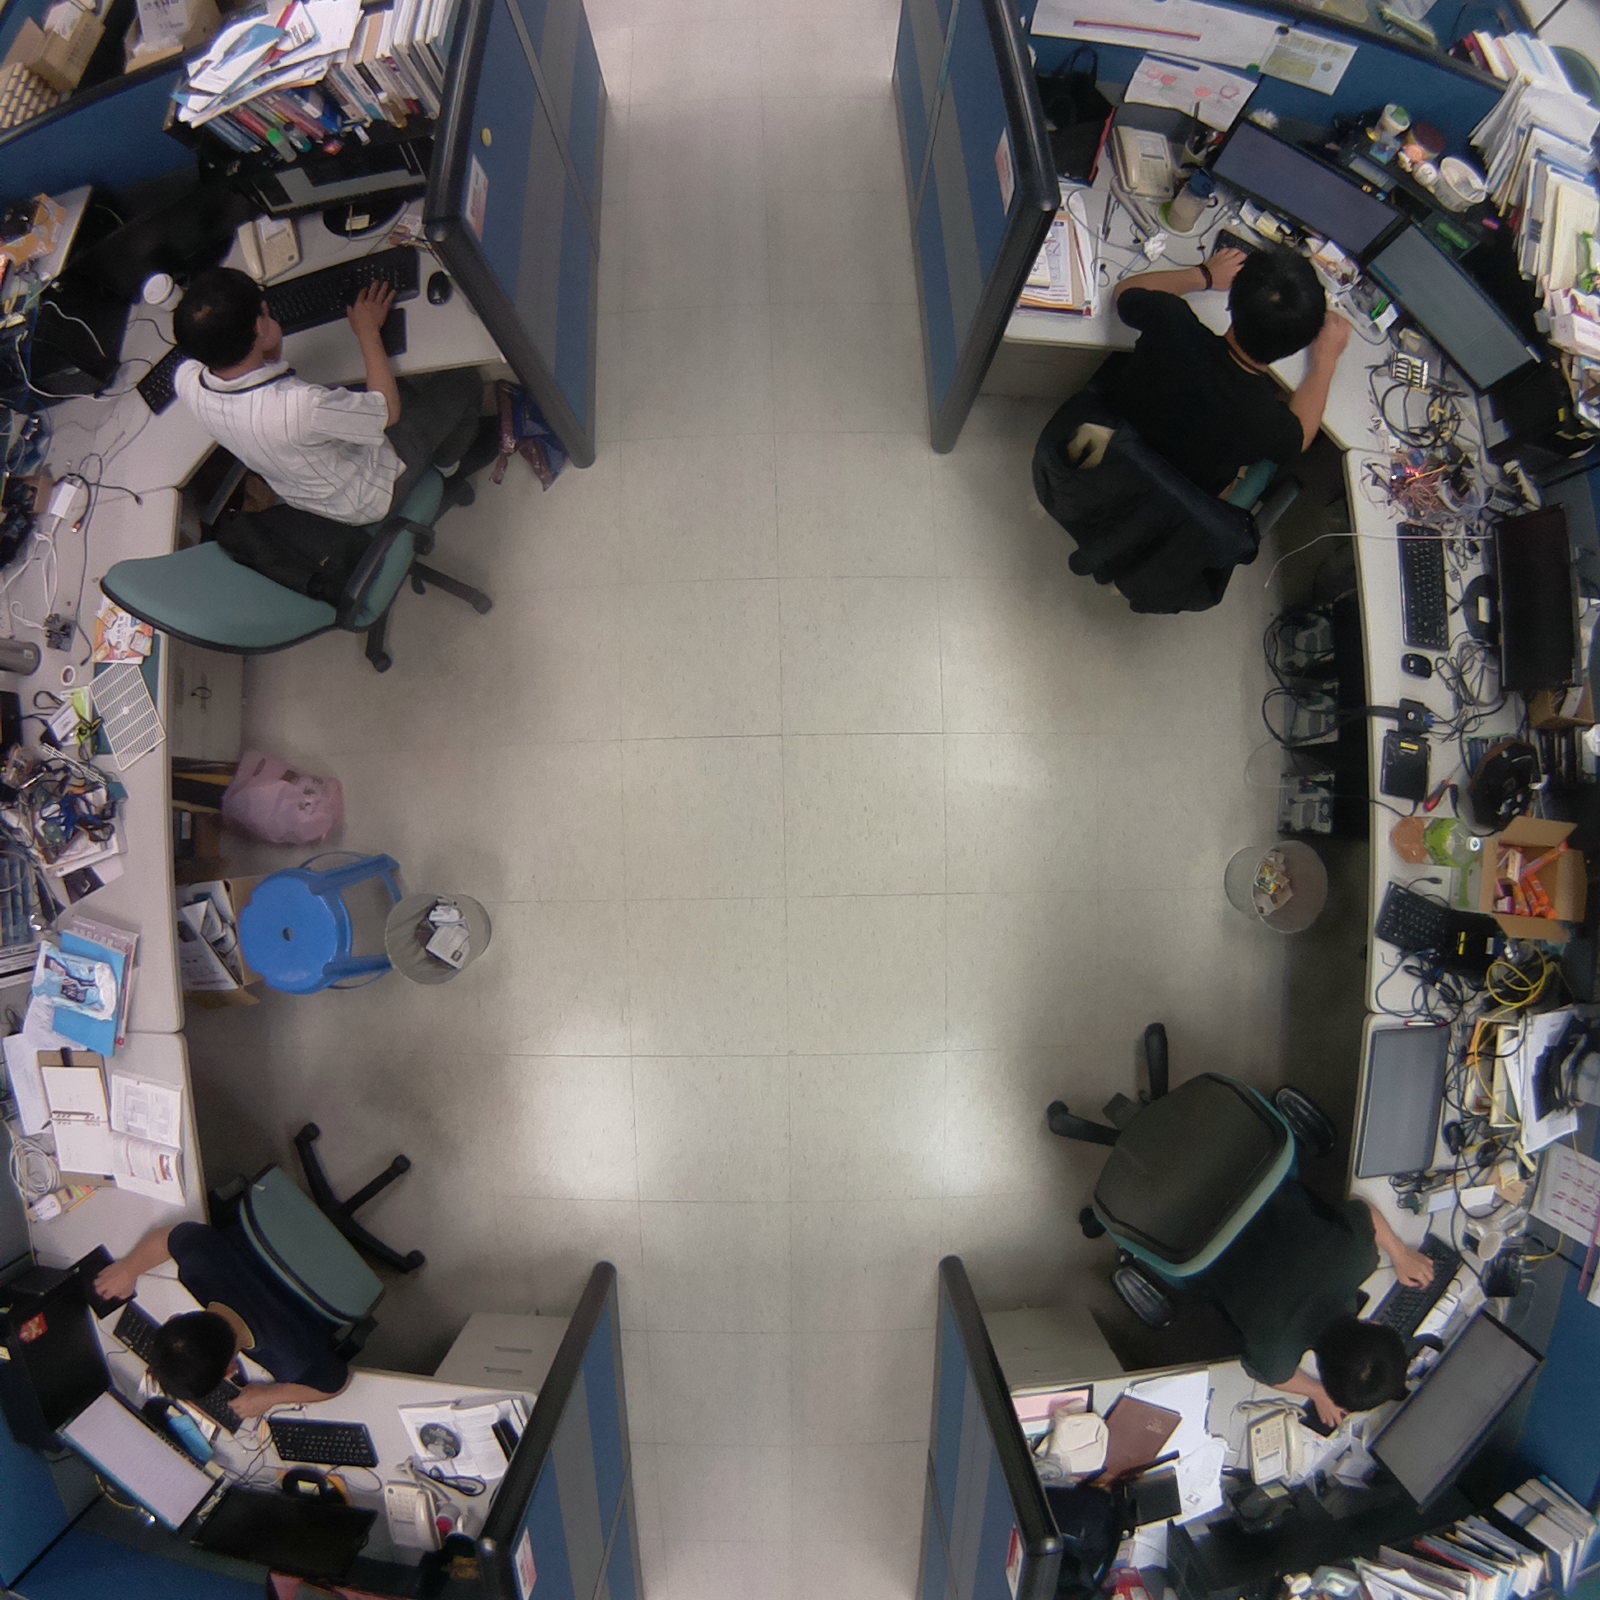head: (1219, 236, 1332, 369), (163, 260, 288, 371), (1299, 1311, 1421, 1420), (141, 1305, 250, 1411)
sitting: (86, 267, 512, 693), (1029, 1009, 1441, 1437), (1009, 227, 1355, 632), (79, 1114, 442, 1431)
